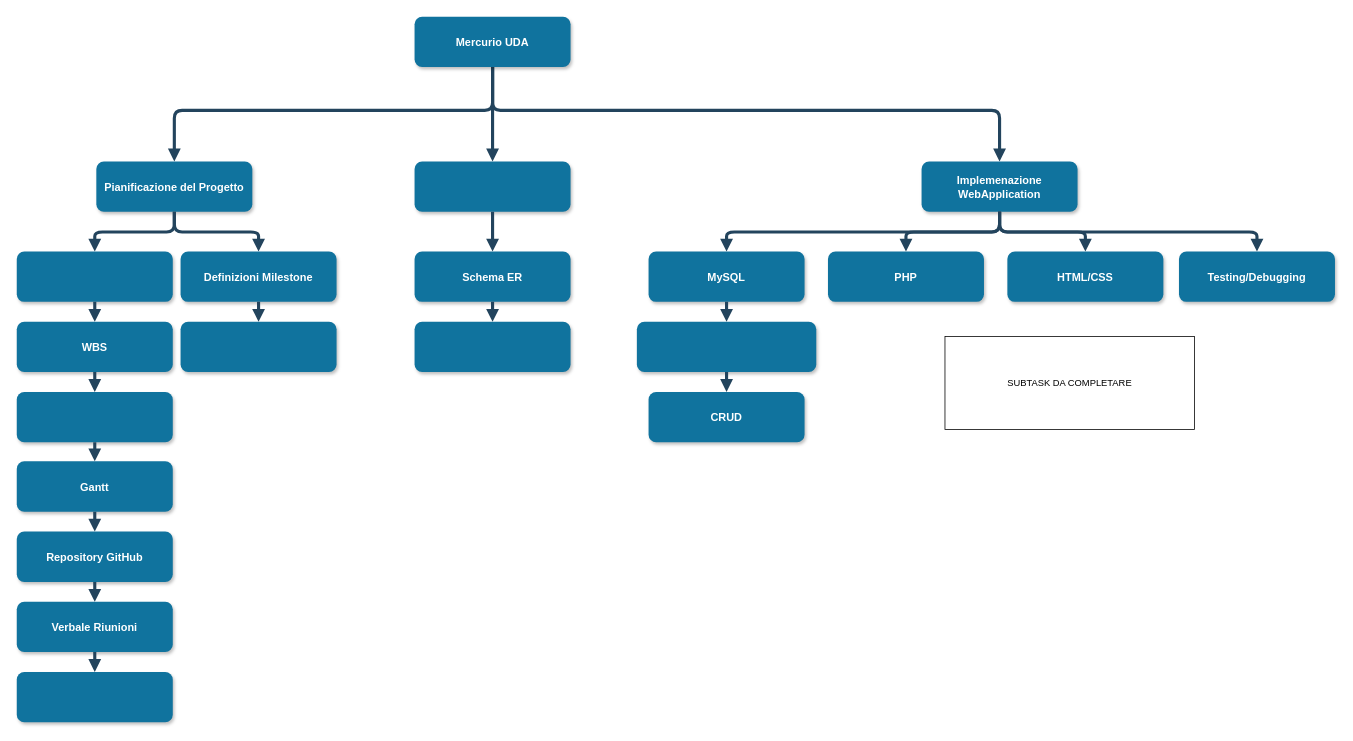
This 1353x741 diagram has some shape labels left out. The shapes that lost their labels are listed below. From the top down, each one's centre as x and y in pixels, then its label:
At (x=493, y=187): "Progettazione Database".
At (x=95, y=277): "Creazione della Documentazione".
At (x=259, y=347): "Identificazione delle precedenze".
At (x=493, y=347): "Modello Logico Relazionale".
At (x=727, y=347): "Implementazione Basi di Dati".
At (x=95, y=417): "Task Manager".
At (x=95, y=697): "Analisi dei Rischi".
